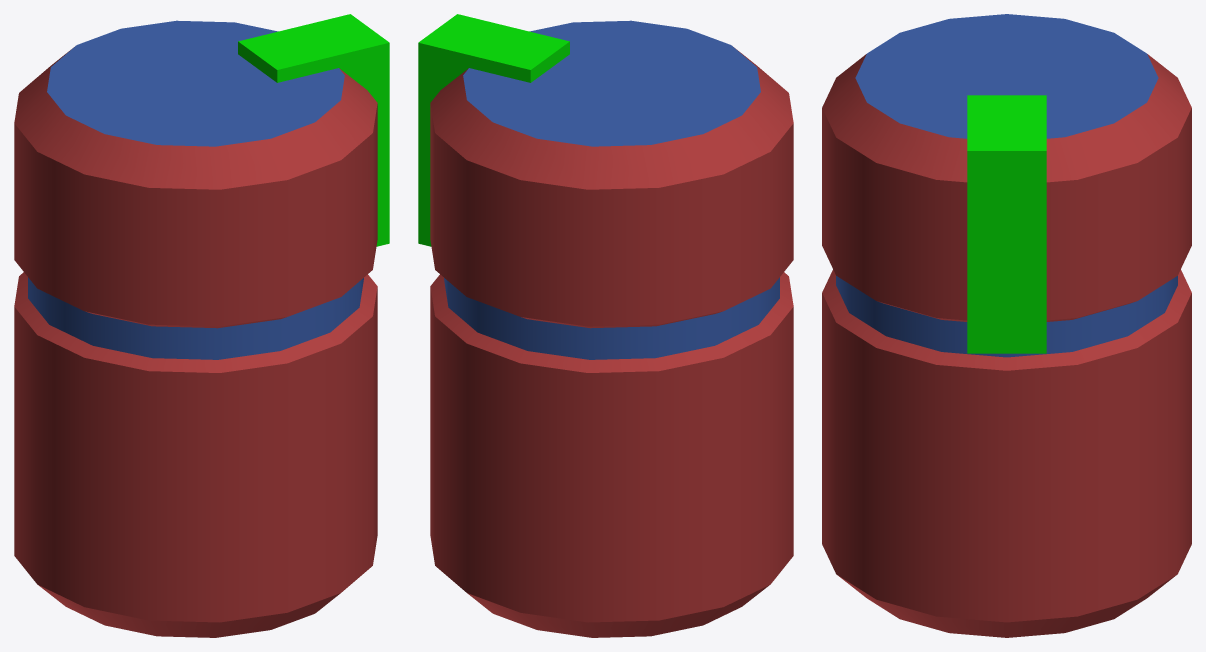
The model's file is SM_Barrel_01.fbx.
3 views of the same model, side by side, from view 1: azimuth 30°, elevation 25°; view 2: azimuth 150°, elevation 25°; view 3: azimuth 270°, elevation 25° (orthographic).
Parts seen in each view (by area): view 1: SM_Barrel_01; view 2: SM_Barrel_01; view 3: SM_Barrel_01.
Part boxes in pixels (x1,y1,x2,y2): SM_Barrel_01: [14, 14, 389, 637]; SM_Barrel_01: [418, 14, 793, 637]; SM_Barrel_01: [822, 14, 1191, 637].
Bounding box in the file's own units: 128 × 185 × 122.
